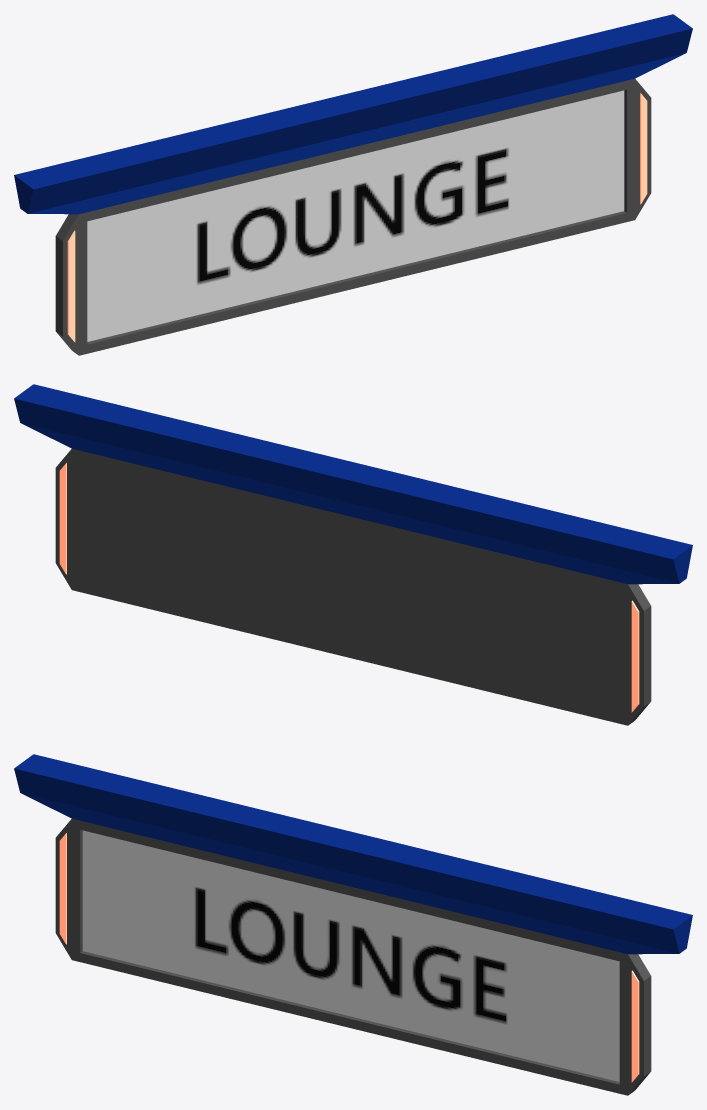
The model's file is sign_Lounge.fbx.
3 renders of one model, top to bottom at view 1: azimuth 30°, elevation 25°; view 2: azimuth 150°, elevation 25°; view 3: azimuth 330°, elevation 25°, orthographic.
Parts seen in each view (by area): view 1: Cube; view 2: Cube; view 3: Cube.
Part boxes in pixels (bbox=[...]): Cube: bbox=[14, 14, 692, 355]; Cube: bbox=[14, 384, 692, 725]; Cube: bbox=[14, 754, 692, 1095].
Bounding box in the file's own units: 237 × 63.07 × 12.23.
